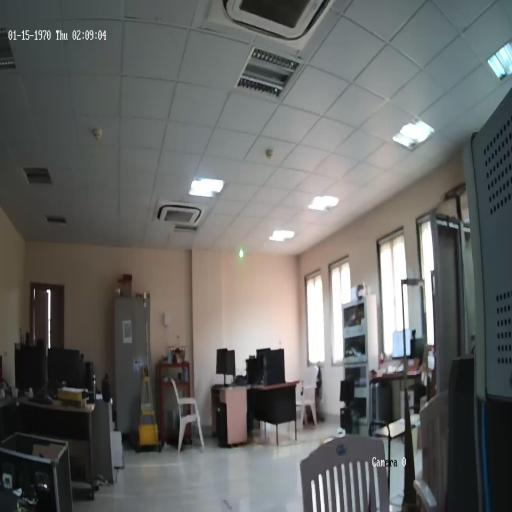laser: (238, 246, 244, 260)
